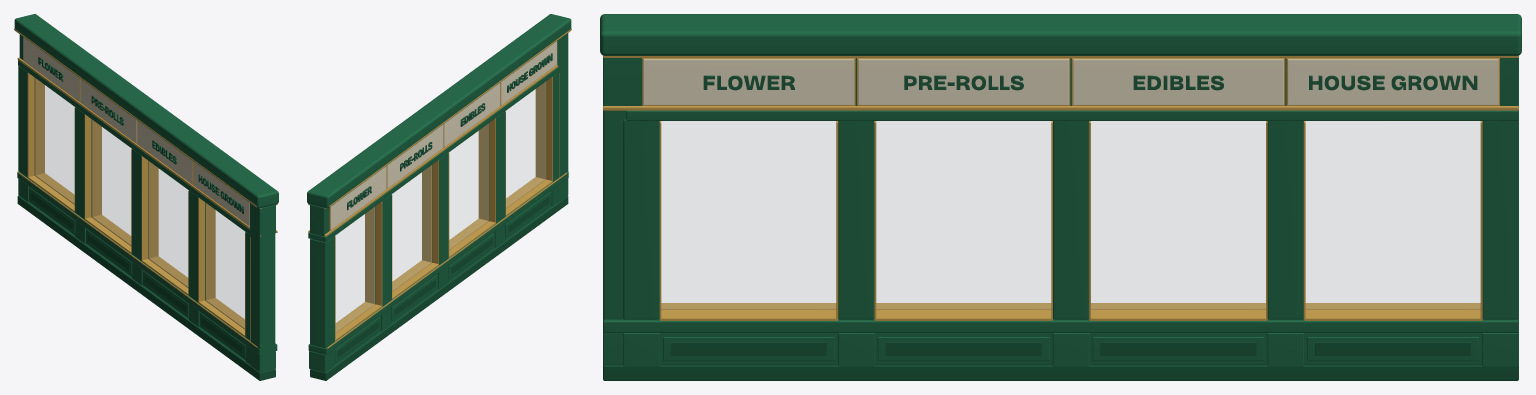
File: storefront.glb
The picture shows the model from 3 angles, left to right: view 1: azimuth 30°, elevation 25°; view 2: azimuth 150°, elevation 25°; view 3: azimuth 270°, elevation 25°; orthographic projection. The views are drawn at different scales.
Parts seen in each view (by area): view 1: Cap, Glass1, Glass0, Glass2, Glass3, EntrancePilaster, Plinth, Sill, Header, Mullion1, SignPanelOut3, SignPanelOut2 (+37 smaller); view 2: Cap, Glass0, Glass1, Glass2, Glass3, Plinth, Mullion4, Sill, EntrancePilaster, Header, SignPanelOut3, SignPanelOut1 (+38 smaller); view 3: Cap, Glass2, Glass0, Glass1, Glass3, Plinth, Sill, Header, SignPanelIn0, SignPanelIn2, SignPanelIn1, SignPanelIn3 (+39 smaller).
Part boxes in pixels (x1,y1,x2,y2): Cap: [14, 14, 278, 208]; Glass1: [148, 161, 188, 287]; Glass0: [205, 203, 244, 328]; Glass2: [91, 120, 131, 245]; Glass3: [35, 78, 74, 203]; EntrancePilaster: [250, 203, 275, 372]; Plinth: [17, 195, 275, 380]; Sill: [17, 171, 277, 354]; Header: [18, 60, 249, 234]; Mullion1: [188, 190, 205, 302]; SignPanelOut3: [23, 37, 79, 101]; SignPanelOut2: [80, 79, 136, 142]; Cap: [307, 14, 571, 208]; Glass0: [506, 82, 545, 208]; Glass1: [449, 124, 488, 249]; Glass2: [392, 165, 431, 290]; Glass3: [336, 207, 375, 332]; Plinth: [310, 196, 568, 380]; Mullion4: [310, 236, 334, 348]; Sill: [308, 172, 568, 354]; EntrancePilaster: [557, 33, 568, 202]; Header: [308, 67, 558, 242]; SignPanelOut3: [330, 166, 386, 229]; SignPanelOut1: [444, 83, 500, 146]; Cap: [600, 14, 1521, 55]; Glass2: [1091, 121, 1265, 309]; Glass0: [661, 121, 835, 309]; Glass1: [876, 121, 1050, 309]; Glass3: [1306, 121, 1480, 309]; Plinth: [603, 364, 1518, 380]; Sill: [603, 318, 1518, 332]; Header: [626, 110, 1518, 120]; SignPanelIn0: [643, 59, 854, 104]; SignPanelIn2: [1073, 59, 1283, 104]; SignPanelIn1: [858, 59, 1069, 104]; SignPanelIn3: [1287, 59, 1498, 104].
Size of the model in its own units: 0.316 by 2.48 by 5.9.
